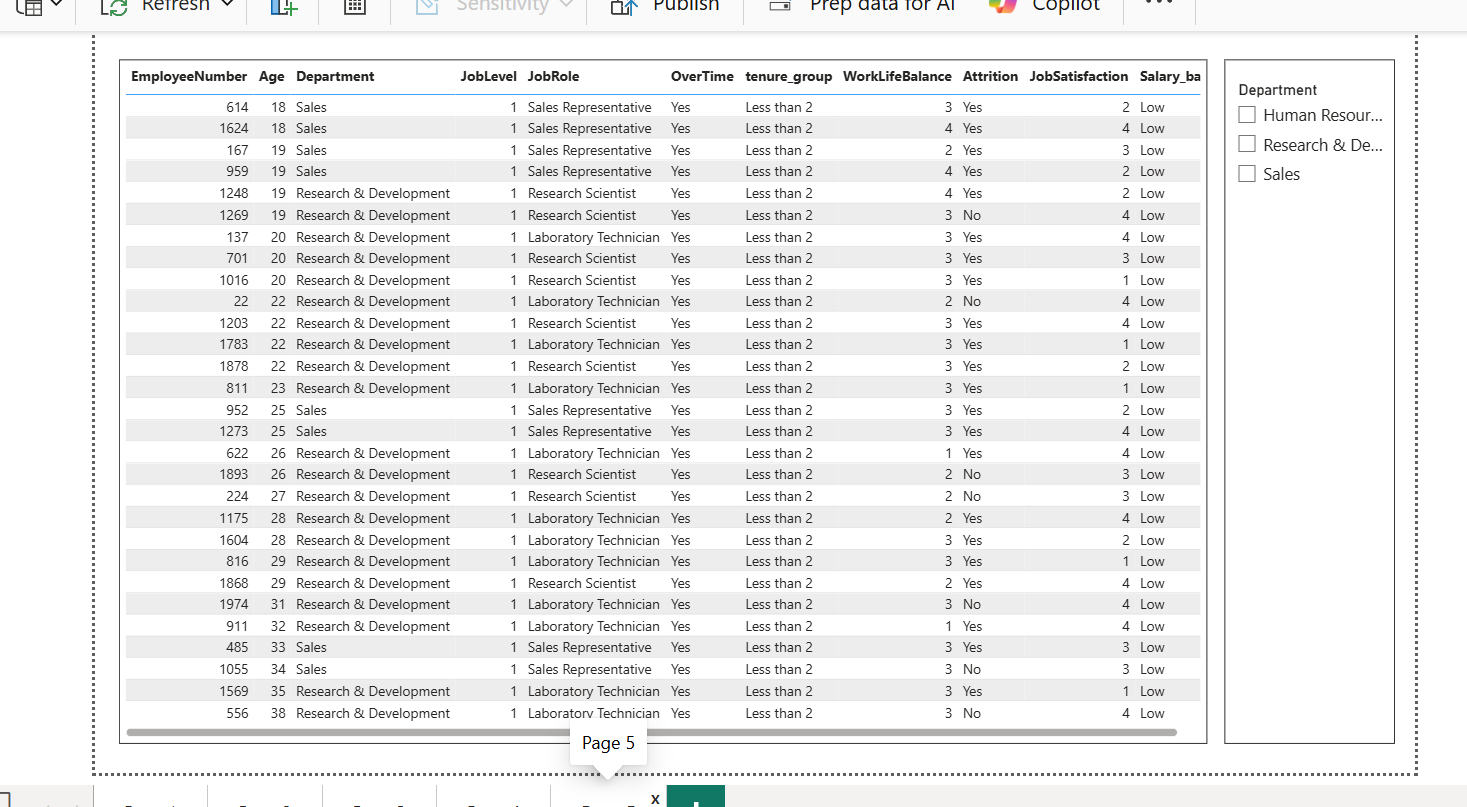

The dashboard page shown, as its layout file describes it:
{"tool":"powerbi","page":{"name":"Page 5","canvas":[1280,720],"ordinal":4},"visuals":[{"type":"tableEx","fields":{"Values":["employees.EmployeeNumber","employees.Age","employees.Department","employees.JobLevel","employees.JobRole","employees.OverTime","employees.tenure_group","employees.WorkLifeBalance","employees.Attrition","employees.JobSatisfaction","employees.Salary_band"]},"box":[22.7,27.5,1055.7,663.9],"z":0},{"type":"slicer","fields":{"Values":["employees.Department"]},"box":[1096.2,27.5,165.2,663.9],"z":1000}]}

Visuals, with their boxes on the page's 1280x720 design canvas (x1, y1, x2, y2). These are canvas units, not pixel positions in the 1467x807 screenshot, which may show the page scaled, cropped or inside an application window:
tableEx - employees.EmployeeNumber x employees.Age: [23, 28, 1078, 691]
slicer - employees.Department: [1096, 28, 1261, 691]
